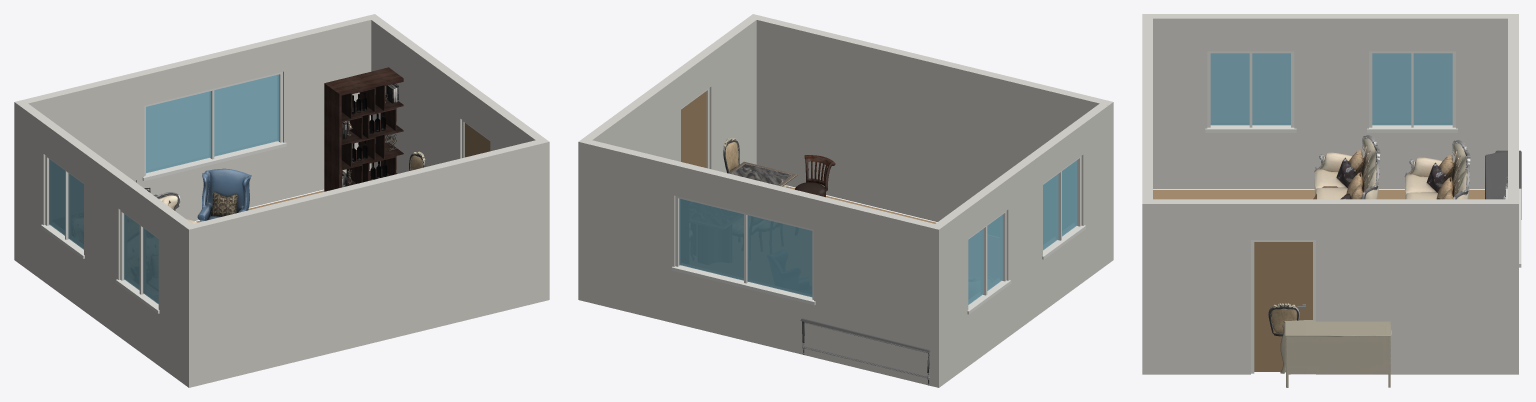
The model's file is atiss.glb.
The picture shows the model from 3 angles, left to right: view 1: azimuth 30°, elevation 25°; view 2: azimuth 150°, elevation 25°; view 3: azimuth 270°, elevation 25°; orthographic projection. The views are drawn at different scales.
Parts seen in each view (by area): view 1: wall|scenesmith_067__R00|0, wall|scenesmith_067__R00|1, wall|scenesmith_067__R00|2, wall|scenesmith_067__R00|3, wall|scenesmith_067__R00|1 Window 0 | glazing, raw_model.003, wall|scenesmith_067__R00|2 Window 0 | glazing, solid_001.001, wall|scenesmith_067__R00|1 Window 0 | jamb, wall|scenesmith_067__R00|2 Window 0 | jamb, wall|scenesmith_067__R00|3 Door 0 | wood leaf; view 2: wall|scenesmith_067__R00|1, wall|scenesmith_067__R00|0, wall|scenesmith_067__R00|2, wall|scenesmith_067__R00|3, wall|scenesmith_067__R00|1 Window 0 | glazing, wall|scenesmith_067__R00|2 Window 0 | glazing, wall|scenesmith_067__R00|1 Window 0 | jamb, wall|scenesmith_067__R00|2 Window 0 | jamb, wall|scenesmith_067__R00|3 Door 0 | wood leaf, solid_001, raw_model, raw_model.008 (+1 smaller); view 3: wall|scenesmith_067__R00|3, wall|scenesmith_067__R00|2, wall|scenesmith_067__R00|2 Window 0 | glazing, raw_model.002, raw_model.001, wall|scenesmith_067__R00|3 Door 0 | wood leaf, wall|scenesmith_067__R00|2 Window 0 | jamb, floor, wall|scenesmith_067__R00|0, wall|scenesmith_067__R00|1, solid_001, wall|scenesmith_067__R00|3 Door 0 | jamb (+1 smaller).
Part boxes in pixels (x1=…): wall|scenesmith_067__R00|0: x1=184, y1=140, x2=545, y2=387; wall|scenesmith_067__R00|1: x1=15, y1=16, x2=371, y2=220; wall|scenesmith_067__R00|2: x1=14, y1=102, x2=197, y2=387; wall|scenesmith_067__R00|3: x1=366, y1=14, x2=549, y2=301; wall|scenesmith_067__R00|1 Window 0 | glazing: x1=146, y1=74, x2=279, y2=173; raw_model.003: x1=324, y1=67, x2=403, y2=191; wall|scenesmith_067__R00|2 Window 0 | glazing: x1=49, y1=159, x2=158, y2=303; solid_001.001: x1=197, y1=168, x2=251, y2=221; wall|scenesmith_067__R00|1 Window 0 | jamb: x1=142, y1=72, x2=286, y2=180; wall|scenesmith_067__R00|2 Window 0 | jamb: x1=41, y1=155, x2=159, y2=313; wall|scenesmith_067__R00|3 Door 0 | wood leaf: x1=464, y1=123, x2=490, y2=157; wall|scenesmith_067__R00|1: x1=587, y1=140, x2=943, y2=385; wall|scenesmith_067__R00|0: x1=756, y1=16, x2=1112, y2=221; wall|scenesmith_067__R00|2: x1=930, y1=102, x2=1113, y2=387; wall|scenesmith_067__R00|3: x1=578, y1=14, x2=761, y2=301; wall|scenesmith_067__R00|1 Window 0 | glazing: x1=679, y1=198, x2=812, y2=297; wall|scenesmith_067__R00|2 Window 0 | glazing: x1=968, y1=159, x2=1077, y2=304; wall|scenesmith_067__R00|1 Window 0 | jamb: x1=671, y1=196, x2=815, y2=305; wall|scenesmith_067__R00|2 Window 0 | jamb: x1=967, y1=156, x2=1085, y2=314; wall|scenesmith_067__R00|3 Door 0 | wood leaf: x1=681, y1=91, x2=706, y2=167; solid_001: x1=800, y1=318, x2=930, y2=385; raw_model: x1=795, y1=155, x2=835, y2=197; raw_model.008: x1=728, y1=161, x2=797, y2=186; wall|scenesmith_067__R00|3: x1=1142, y1=199, x2=1518, y2=374; wall|scenesmith_067__R00|2: x1=1153, y1=14, x2=1507, y2=189; wall|scenesmith_067__R00|2 Window 0 | glazing: x1=1210, y1=53, x2=1452, y2=125; raw_model.002: x1=1314, y1=135, x2=1470, y2=199; raw_model.001: x1=1280, y1=320, x2=1391, y2=387; wall|scenesmith_067__R00|3 Door 0 | wood leaf: x1=1254, y1=242, x2=1312, y2=371; wall|scenesmith_067__R00|2 Window 0 | jamb: x1=1205, y1=51, x2=1457, y2=132; floor: x1=1153, y1=190, x2=1484, y2=199; wall|scenesmith_067__R00|0: x1=1142, y1=14, x2=1152, y2=199; wall|scenesmith_067__R00|1: x1=1508, y1=14, x2=1518, y2=199; solid_001: x1=1485, y1=150, x2=1521, y2=219; wall|scenesmith_067__R00|3 Door 0 | jamb: x1=1251, y1=240, x2=1315, y2=373.
Size of the model in its own units: 6.68 by 2.61 by 5.24.
Materials: 16 (10 with a texture image).
